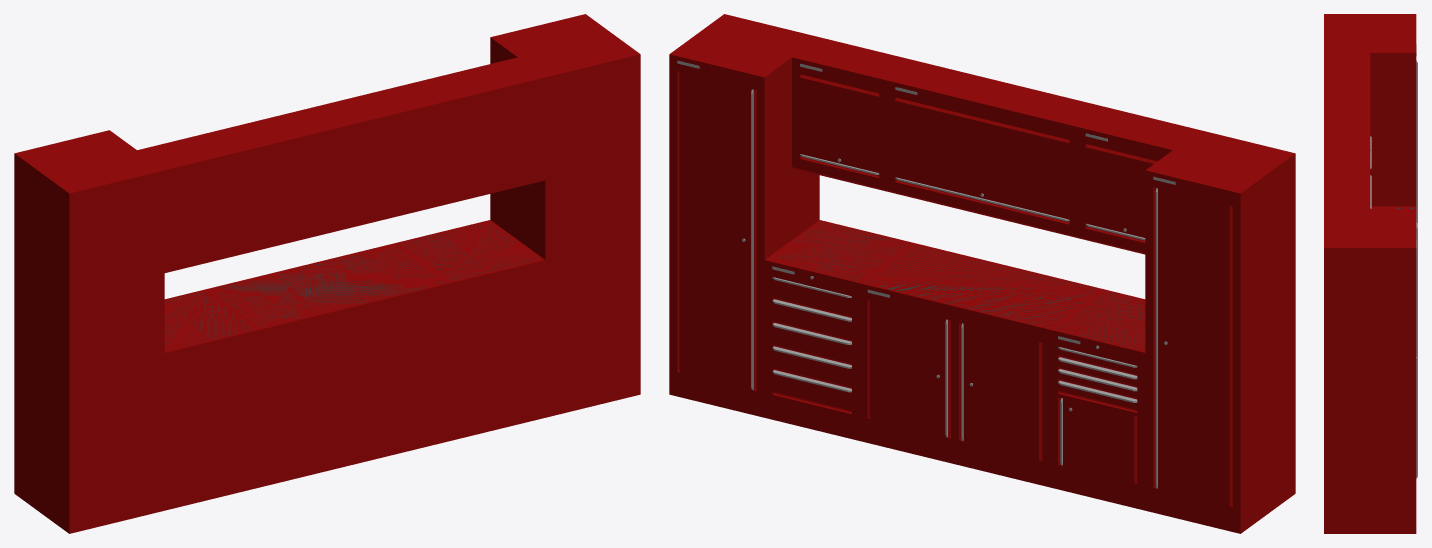
3 renders of one model, left to right at view 1: azimuth 30°, elevation 25°; view 2: azimuth 150°, elevation 25°; view 3: azimuth 270°, elevation 25°, orthographic. The views are drawn at different scales.
Parts seen in each view (by area): view 1: mesh63_mesh63-geometry; view 2: mesh63_mesh63-geometry, mesh19_mesh19-geometry, mesh6_mesh6-geometry, mesh1_mesh1-geometry, mesh8_mesh8-geometry, mesh7_mesh7-geometry, mesh4_mesh4-geometry, mesh23_mesh23-geometry, mesh11_mesh11-geometry, mesh113_mesh113-geometry, mesh15_mesh15-geometry, mesh16_mesh16-geometry (+6 smaller); view 3: mesh63_mesh63-geometry, mesh83_mesh83-geometry, mesh97_mesh97-geometry.
Boxes of the visible parts, x1=… form: mesh63_mesh63-geometry: x1=14, y1=14, x2=640, y2=533; mesh63_mesh63-geometry: x1=669, y1=14, x2=1295, y2=533; mesh19_mesh19-geometry: x1=1158, y1=188, x2=1232, y2=506; mesh6_mesh6-geometry: x1=679, y1=71, x2=751, y2=389; mesh1_mesh1-geometry: x1=895, y1=98, x2=1069, y2=219; mesh8_mesh8-geometry: x1=963, y1=323, x2=1042, y2=459; mesh7_mesh7-geometry: x1=869, y1=301, x2=946, y2=436; mesh4_mesh4-geometry: x1=800, y1=74, x2=879, y2=172; mesh23_mesh23-geometry: x1=1063, y1=398, x2=1137, y2=482; mesh11_mesh11-geometry: x1=1085, y1=144, x2=1157, y2=237; mesh113_mesh113-geometry: x1=792, y1=160, x2=1145, y2=254; mesh15_mesh15-geometry: x1=772, y1=302, x2=851, y2=341; mesh16_mesh16-geometry: x1=772, y1=373, x2=851, y2=412; mesh63_mesh63-geometry: x1=1324, y1=14, x2=1416, y2=533; mesh83_mesh83-geometry: x1=1416, y1=226, x2=1417, y2=478; mesh97_mesh97-geometry: x1=1416, y1=61, x2=1417, y2=222.
Bounding box in the file's own units: 0.8577 × 0.4932 × 0.1453.
